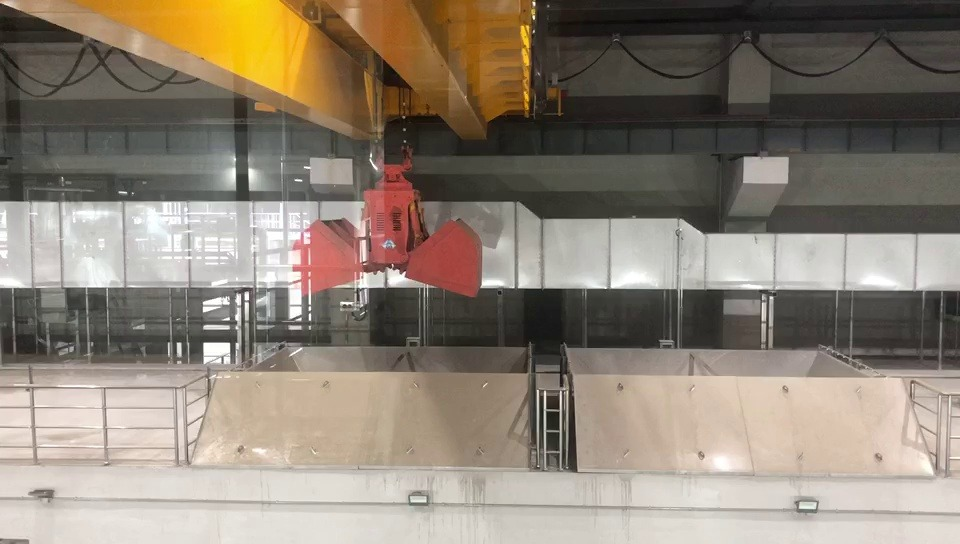grab: (289, 150, 485, 302)
